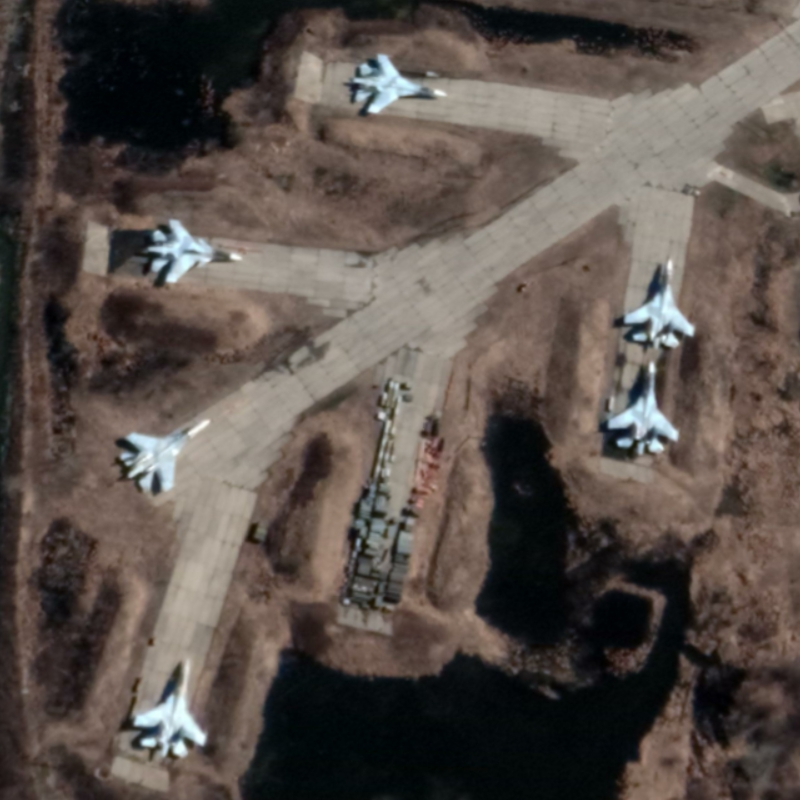A1: (130, 657, 210, 763), (602, 358, 683, 460), (620, 255, 700, 353), (115, 416, 213, 495), (347, 51, 451, 117)
A19: (144, 216, 244, 285)
